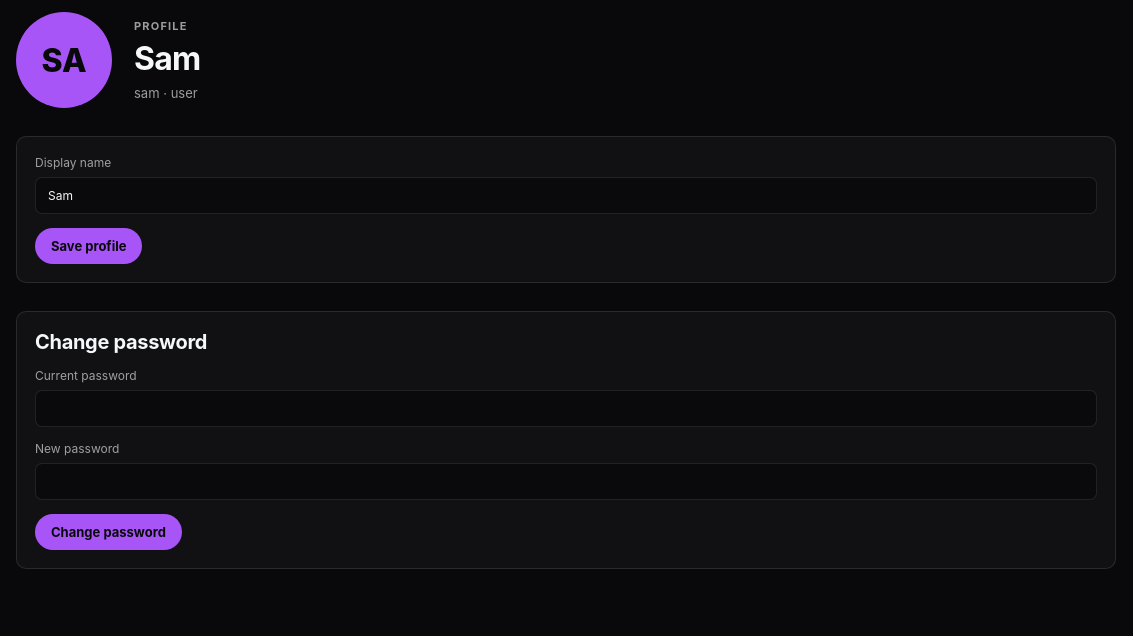
Test: updates the display name
The image size is (1133, 636).
Replace the text in the field labelled "Display name" with "Samuel" at (566, 196), box [35,177,1097,214]
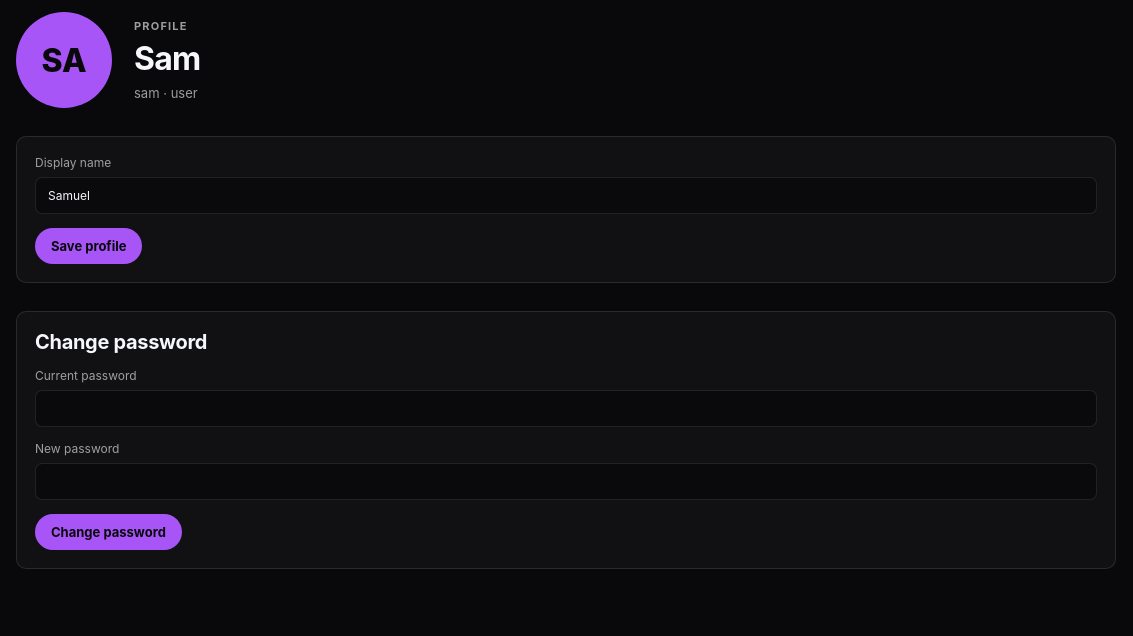
Click the button "Save profile" at (89, 246), box [35,228,142,264]
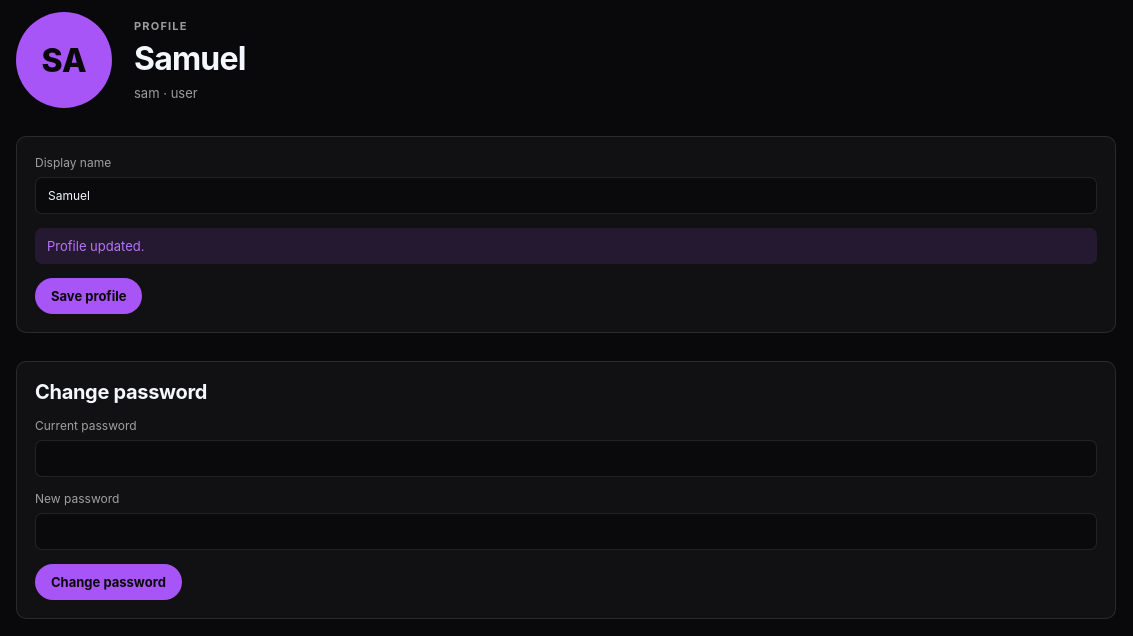
Now the text "Profile updated." is shown, box [35,228,1097,264]
